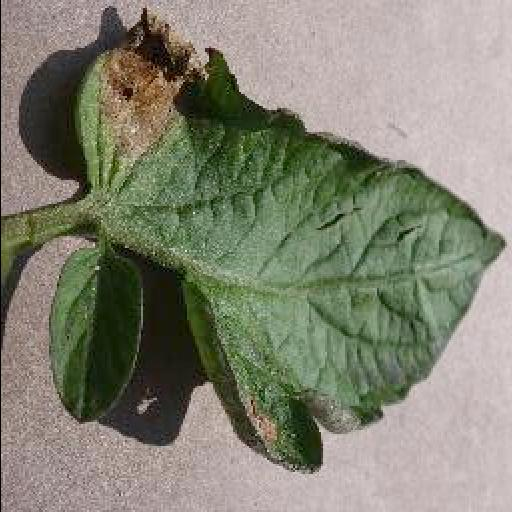disease_tomato: (77, 6, 511, 476)
